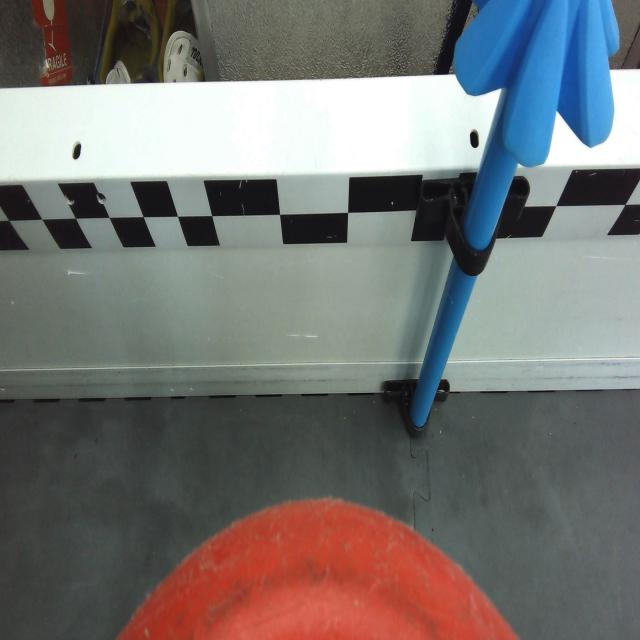zblue-Stake-Head: (452, 0, 622, 166)
